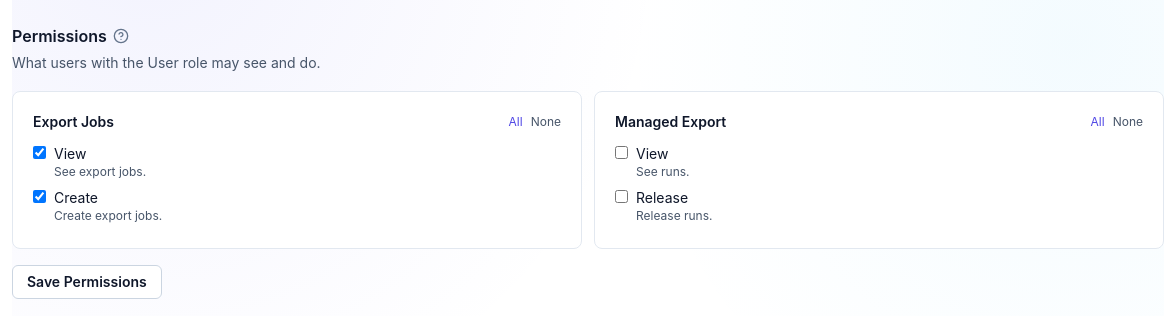
Test case: PermissionsSettings › clears the whole menu item when View is unticked
This screenshot has width=1164, height=316.
Click the checkbox labelled "View See export jobs.".
click(40, 152)  # box [33,146,46,159]
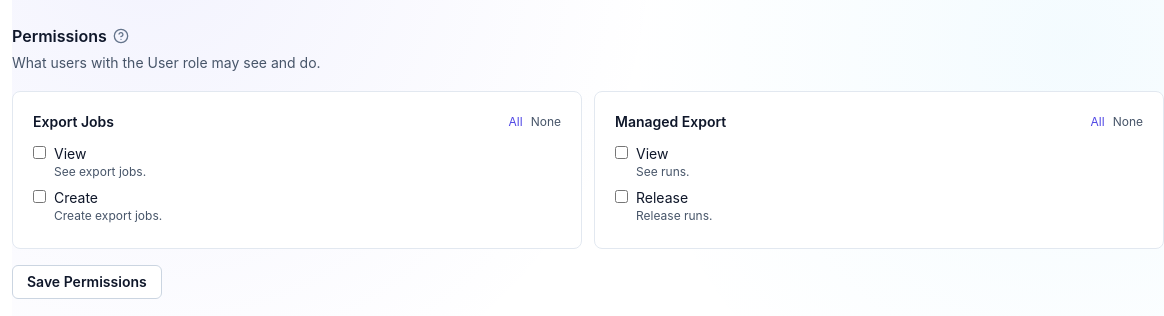
Expected: the checkbox labelled "Create Create export jobs." is not checked, [33,190,46,203]
